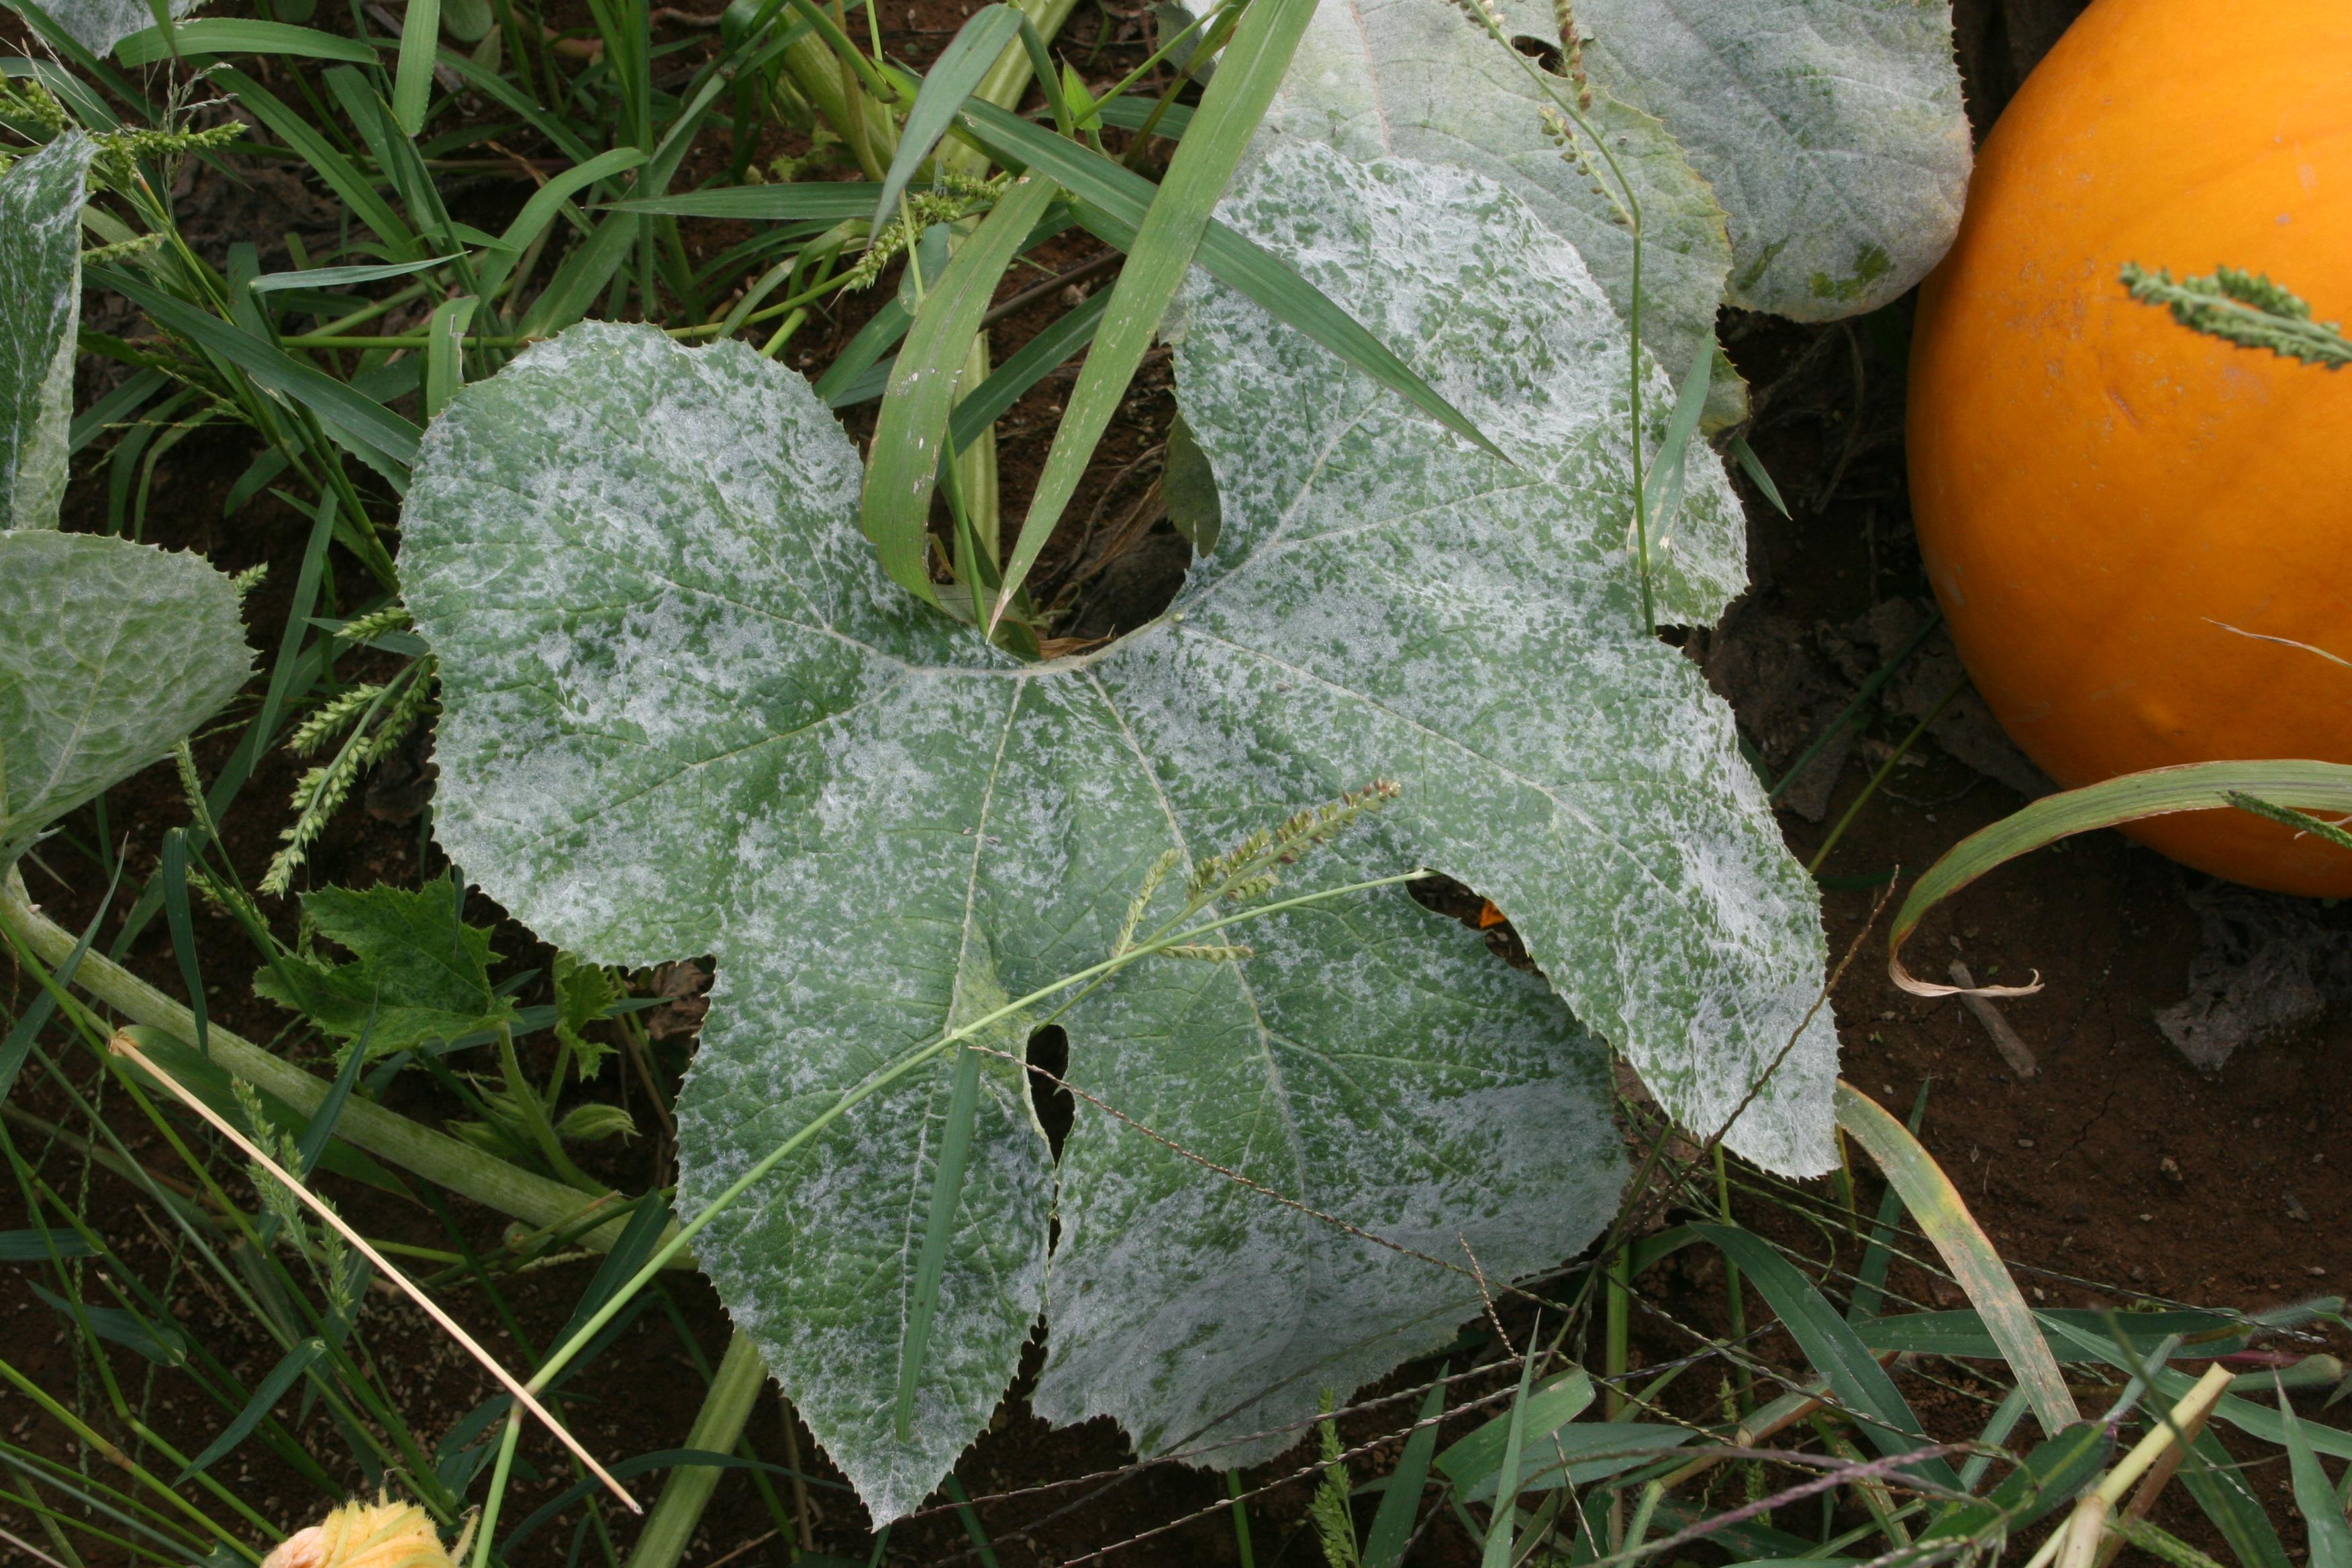Squash Powdery mildew leaf: (366, 124, 1867, 1540)
